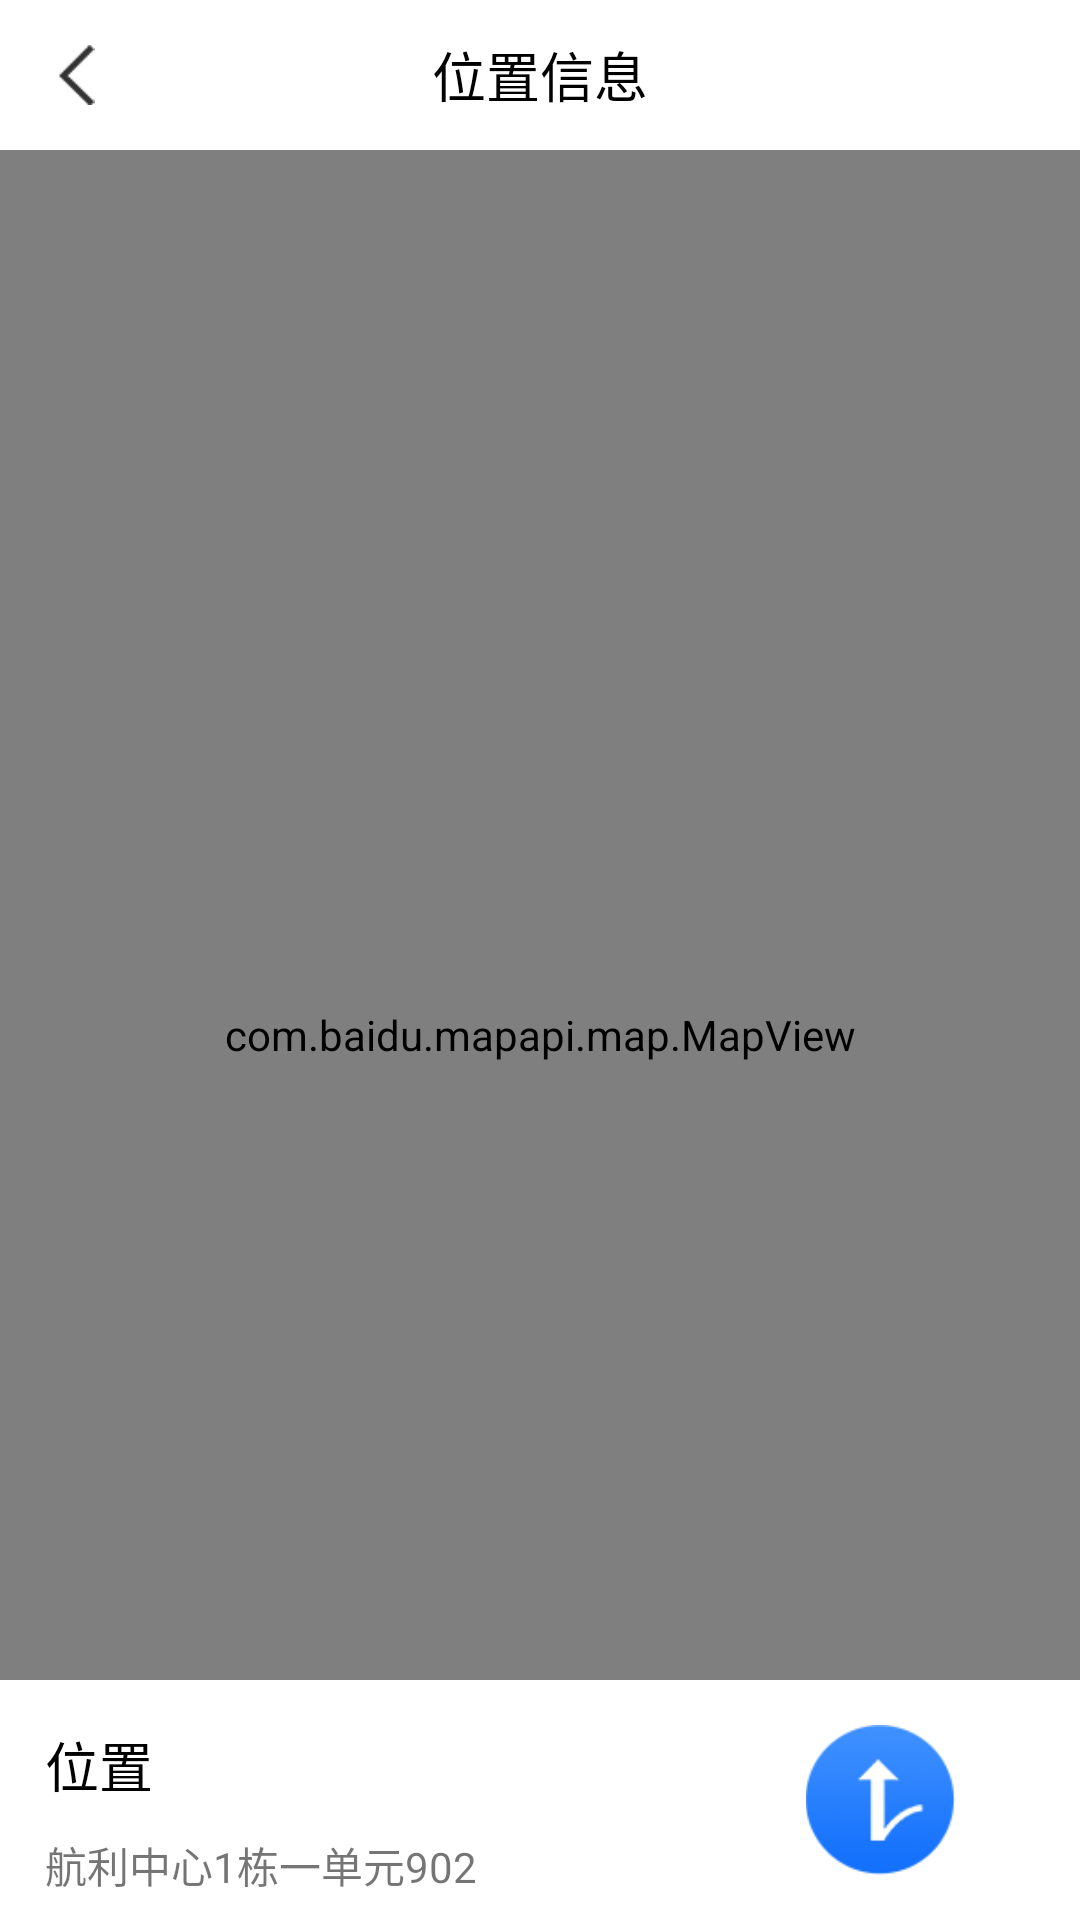

Where to tap for icons on this 1080px×1920px app screen, as point (x, y):
back: point (77, 75)
dao: point (880, 1800)
